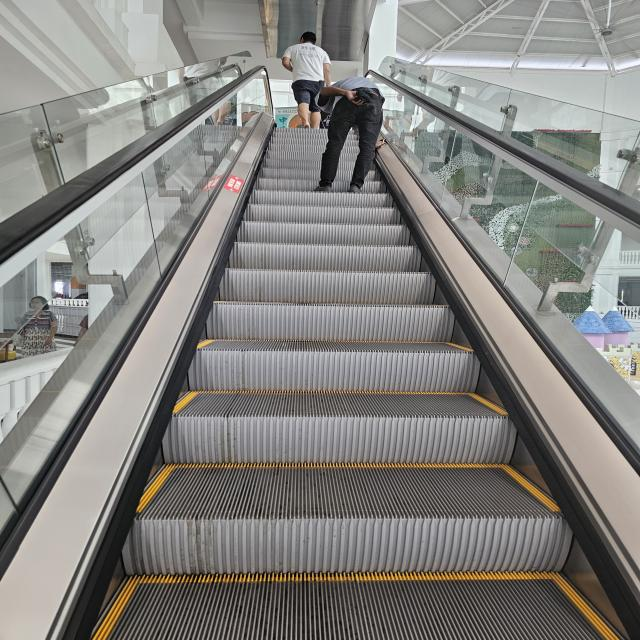escalator: (53, 121, 594, 640)
person: (313, 76, 385, 193), (281, 31, 332, 129), (14, 296, 59, 358)
